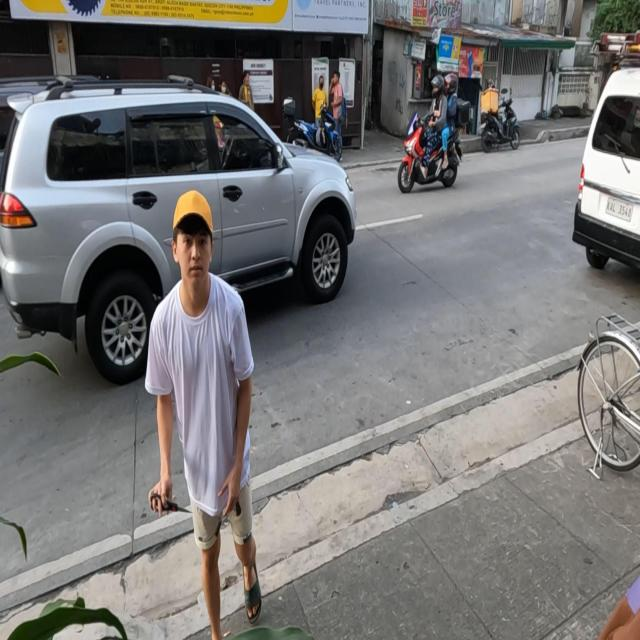scissor: (151, 492, 193, 515)
